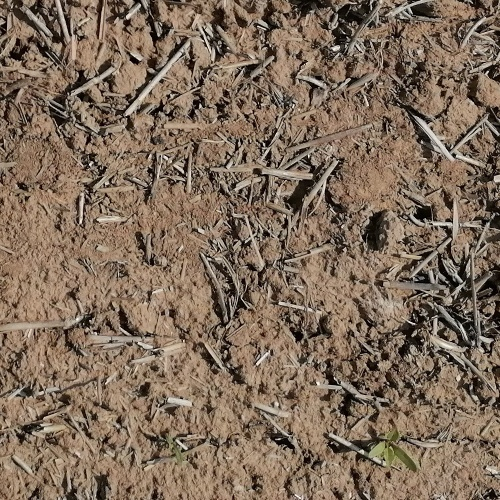beet: (365, 425, 419, 473)
